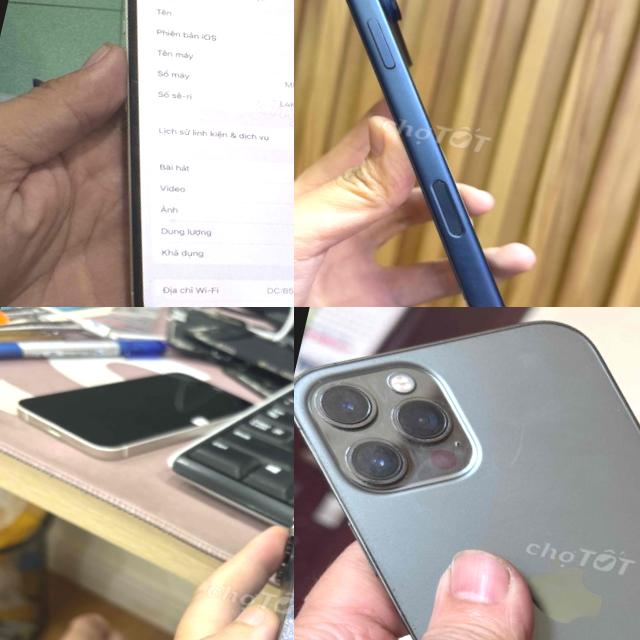gen_12_13: (294, 307, 640, 640), (36, 0, 294, 307)
gen_14: (191, 437, 294, 640)
gen_17: (294, 0, 634, 307)
